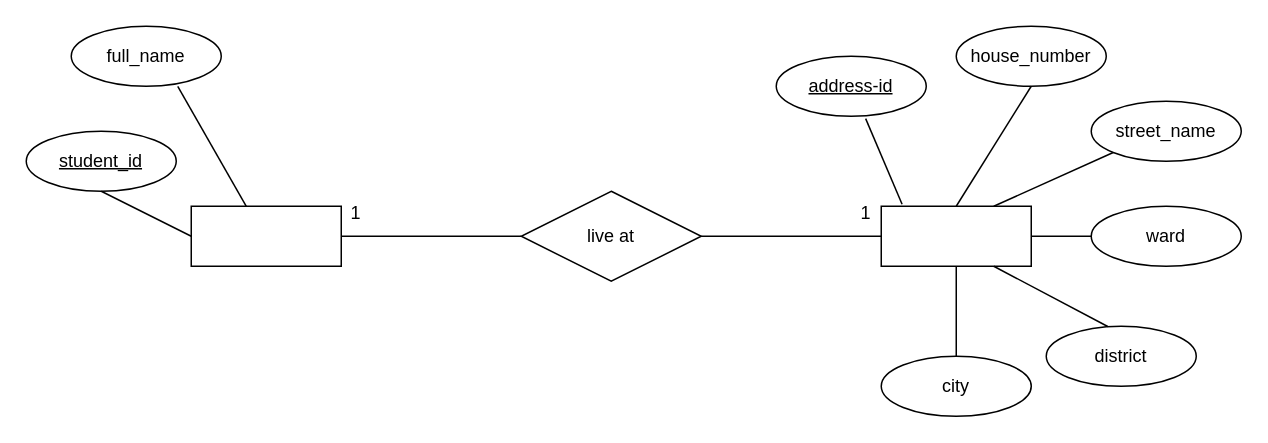
Some shapes in this 1268 by 443 pixel diagram are drawn without their labels. Here are the shapes that lost their labels. From the top down, the box of each, then its label:
(190, 205, 341, 266): STUDENTS
(880, 205, 1031, 266): ADDRESSES
